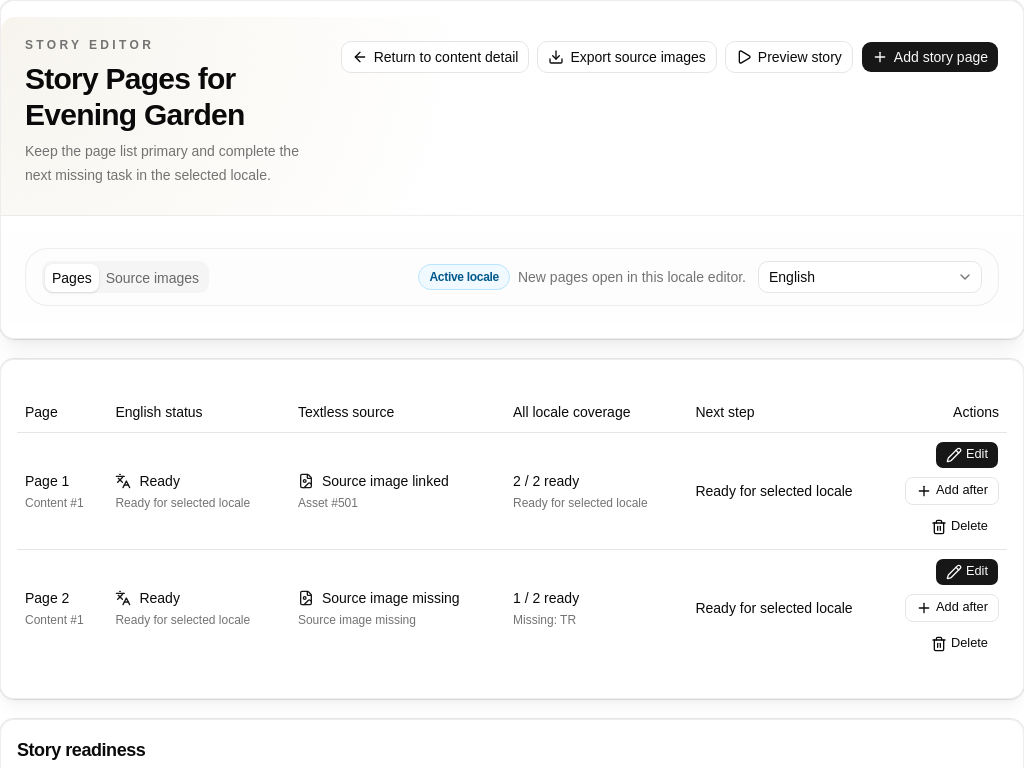
StoryPagesRoute › changes the active story page language from the workspace toolbar
Click the dropdown named "change active locale": (870, 277) [758,261,982,293]
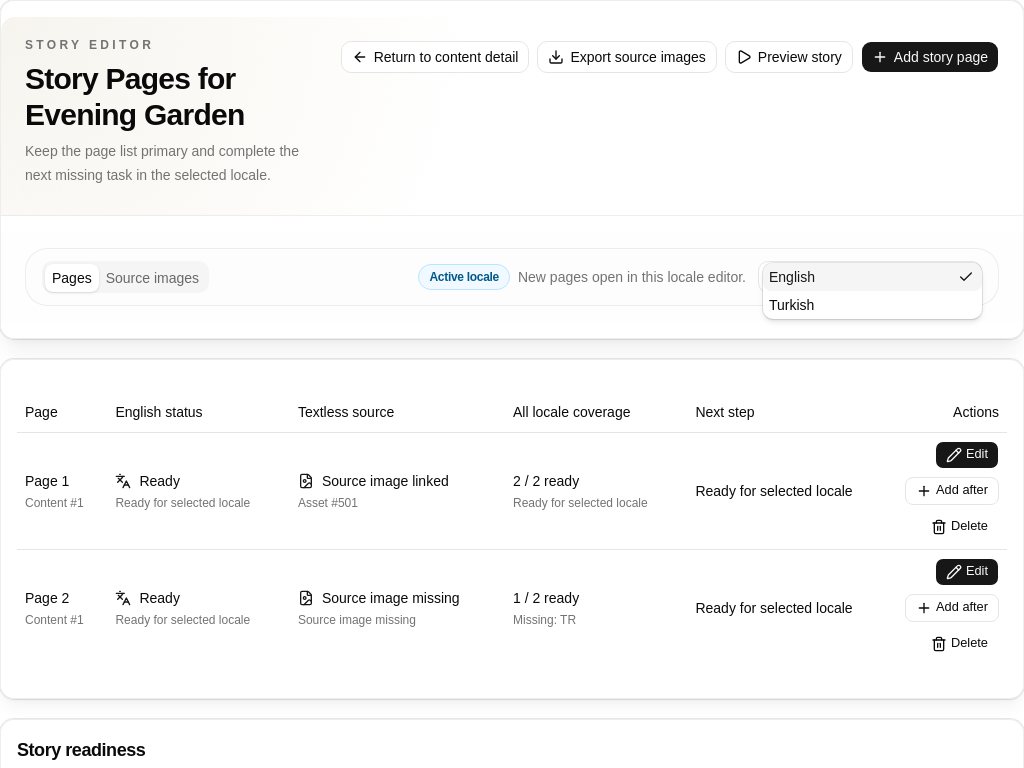
Click the option "Turkish": (792, 305) [769,297,814,313]
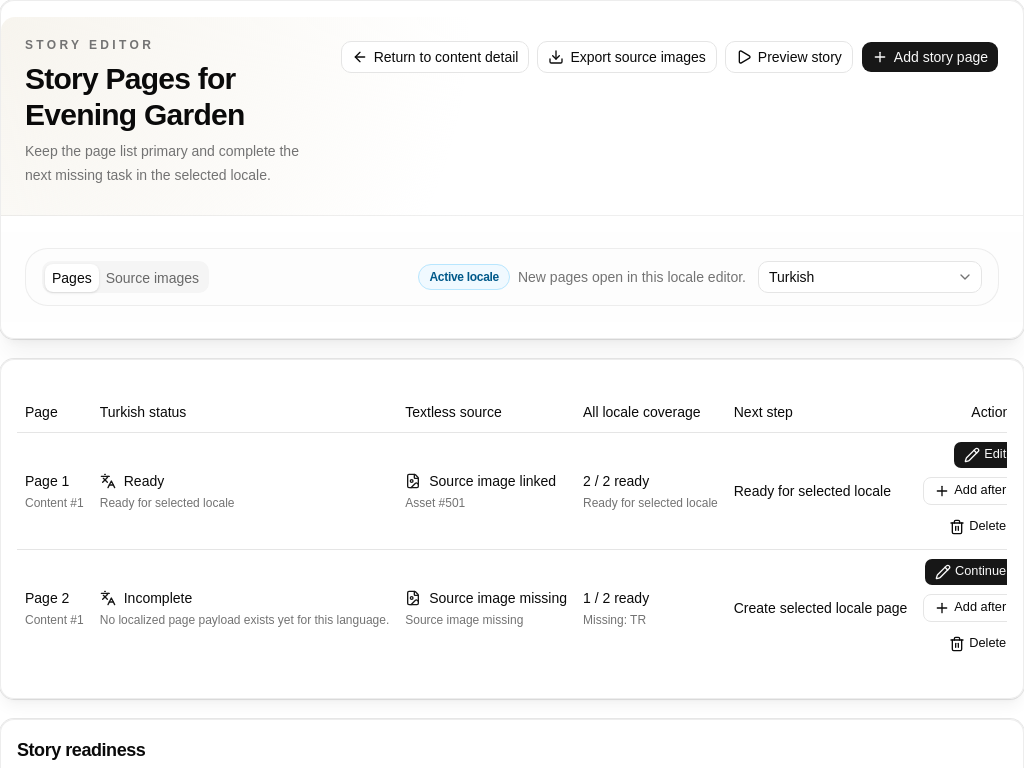
Now the dropdown named "change active locale" reads "Turkish", box [758,261,982,293]
Now the column heading "Turkish status" is shown, box [92,392,397,432]
Click the button with aria-label "edit page 1": (985, 454) [953,440,1017,468]
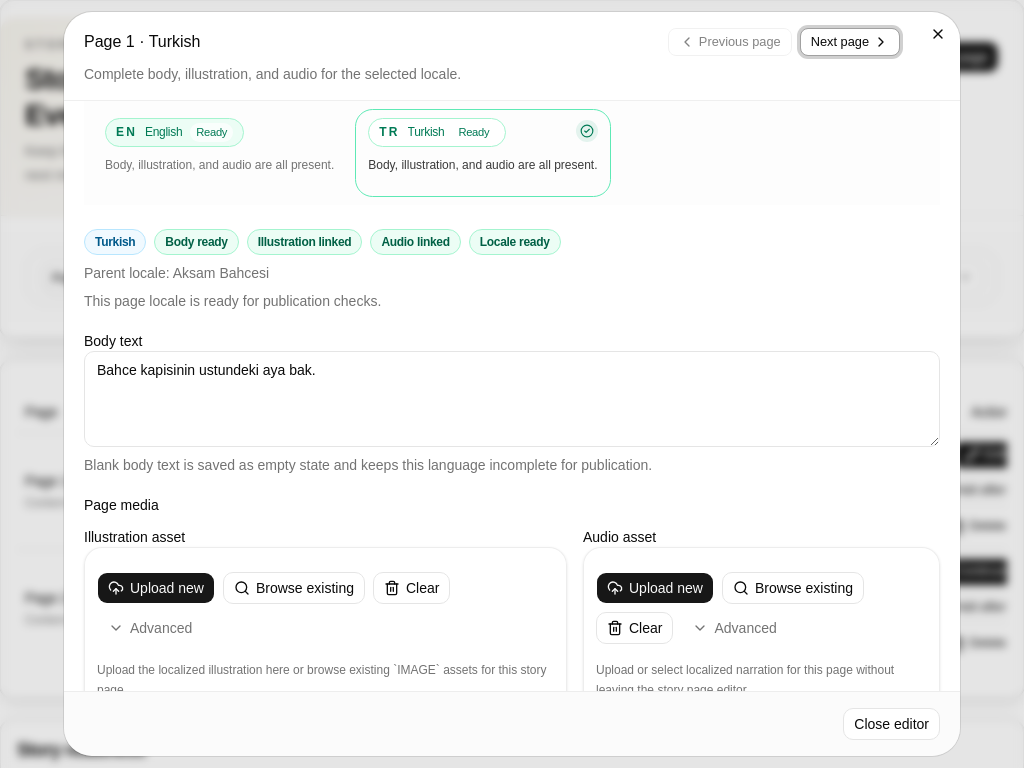
Now the text "Parent locale: Aksam Bahcesi" is shown, box [84,265,269,281]
